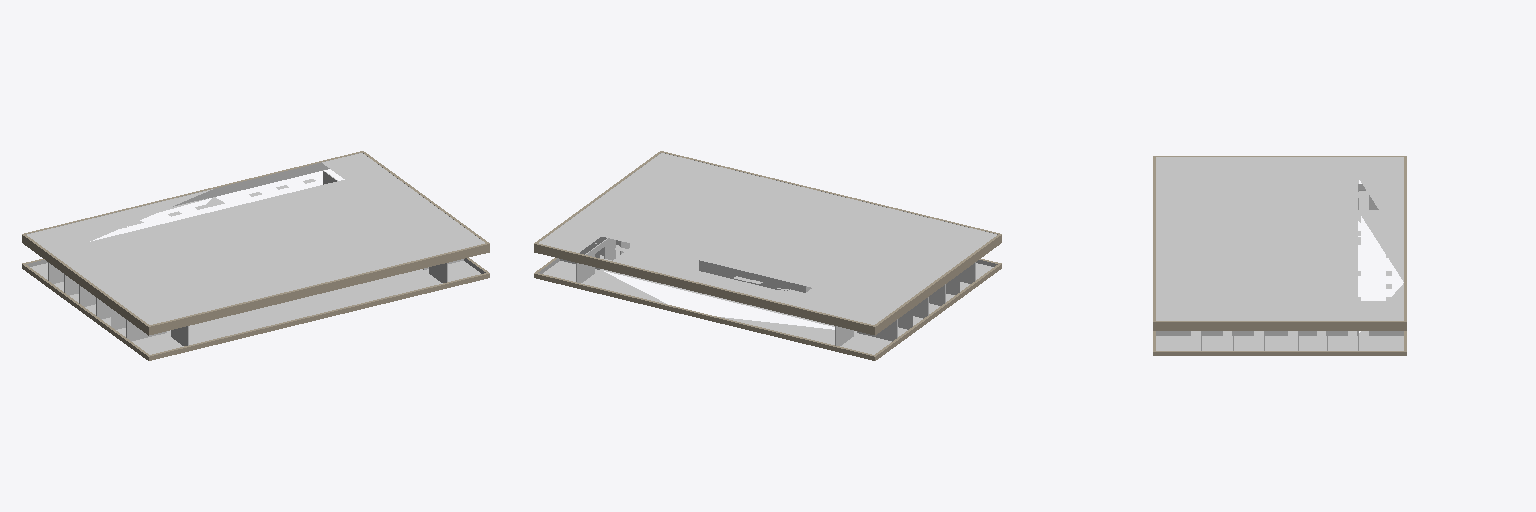
File: Envelope_WWR30p_9ft.obj
The picture shows the model from 3 angles: view 1: azimuth 30°, elevation 25°; view 2: azimuth 150°, elevation 25°; view 3: azimuth 270°, elevation 25°; orthographic projection.
Parts seen in each view (by area): view 1: floor9ft; view 2: floor9ft; view 3: floor9ft.
Boxes of the visible parts, x1=… form: floor9ft: x1=22, y1=151, x2=489, y2=360; floor9ft: x1=534, y1=151, x2=1001, y2=360; floor9ft: x1=1153, y1=156, x2=1406, y2=355.
Size of the model in its own units: 38.71 by 3.69 by 24.94.